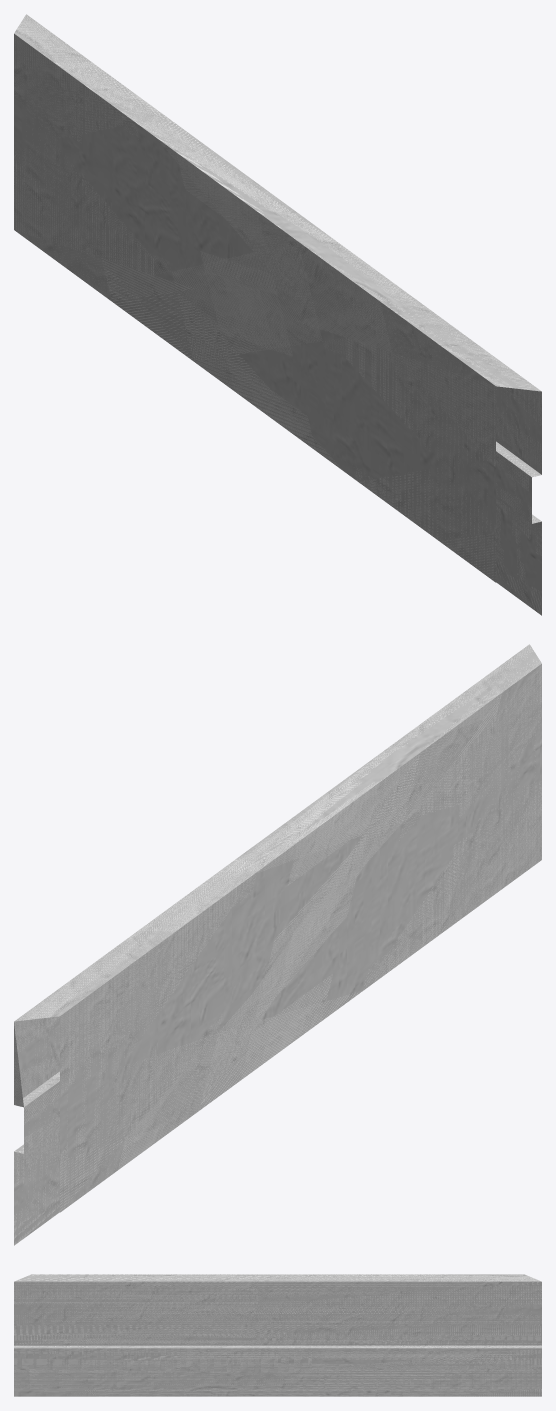
3 renders of one model, top to bottom at view 1: azimuth 30°, elevation 25°; view 2: azimuth 150°, elevation 25°; view 3: azimuth 270°, elevation 25°, orthographic. The views are drawn at different scales.
Size of the model in its own units: 0.0217 by 0.1597 by 0.6654.
